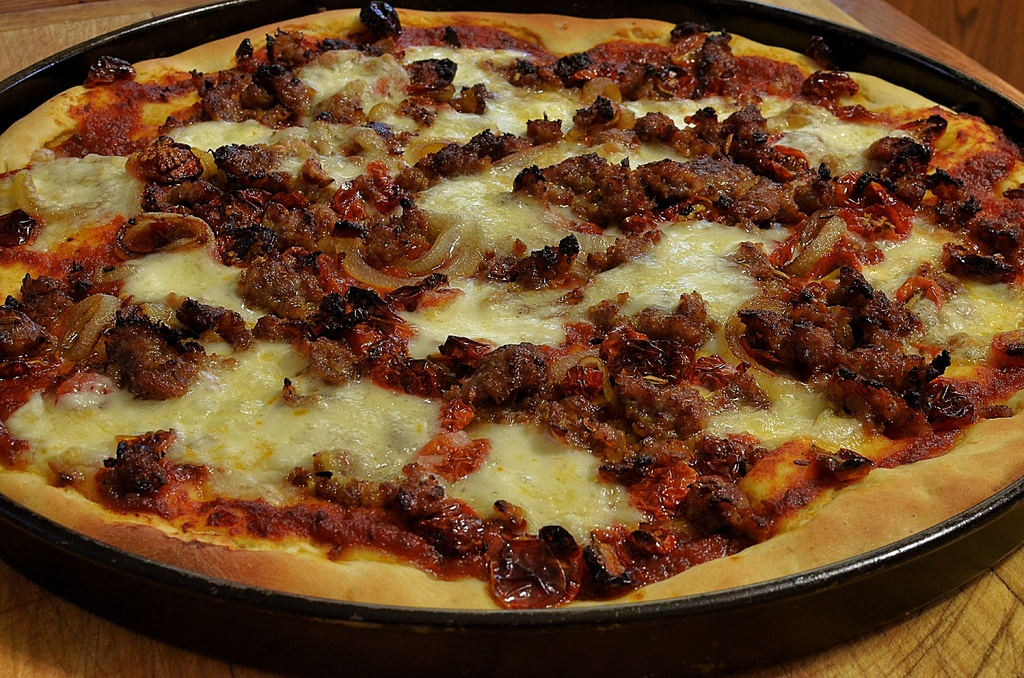Pizza: (0, 7, 1023, 615)
